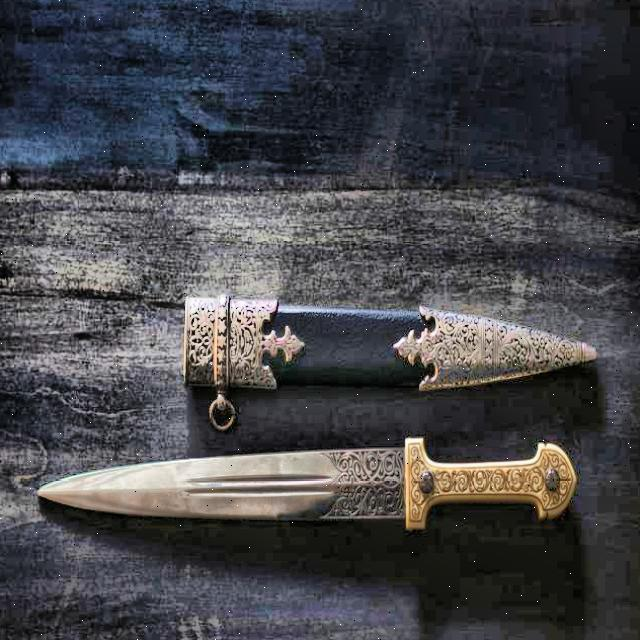knife: (32, 428, 585, 552), (183, 285, 605, 432)
